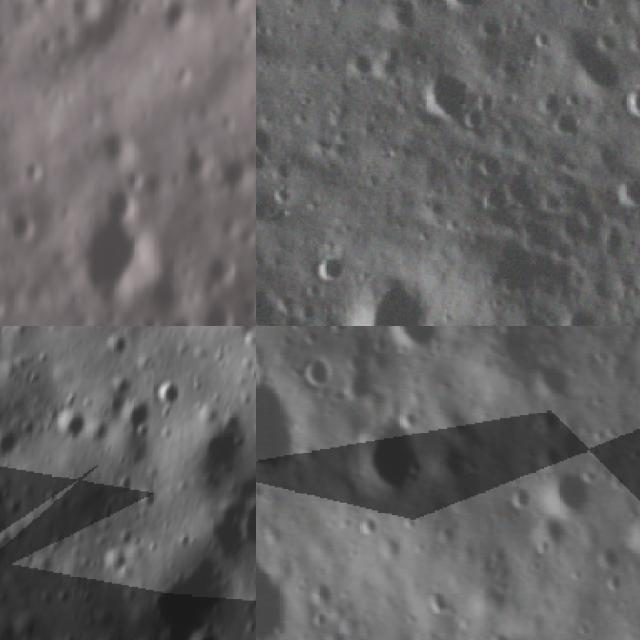crater: (82, 196, 167, 300), (326, 266, 435, 326), (550, 23, 626, 103), (355, 407, 413, 500), (411, 65, 485, 130), (256, 379, 300, 475), (549, 463, 598, 518), (537, 101, 591, 150), (85, 126, 141, 172), (256, 565, 288, 640), (179, 131, 222, 183), (256, 113, 282, 187), (204, 240, 243, 286), (369, 0, 420, 34), (390, 326, 441, 360), (604, 168, 640, 214), (7, 204, 45, 246), (309, 243, 345, 286), (56, 406, 92, 444), (302, 346, 329, 395), (239, 475, 256, 552), (123, 398, 158, 434), (615, 82, 640, 131), (502, 477, 532, 516), (165, 0, 197, 36), (204, 295, 239, 326), (557, 302, 601, 326), (155, 378, 187, 408), (422, 589, 456, 617), (0, 426, 24, 462), (433, 0, 493, 13), (310, 579, 338, 605), (105, 544, 130, 573), (140, 482, 162, 513), (91, 0, 142, 13), (108, 335, 134, 360), (163, 310, 200, 326), (189, 627, 226, 640), (630, 509, 640, 556), (0, 482, 13, 516)
